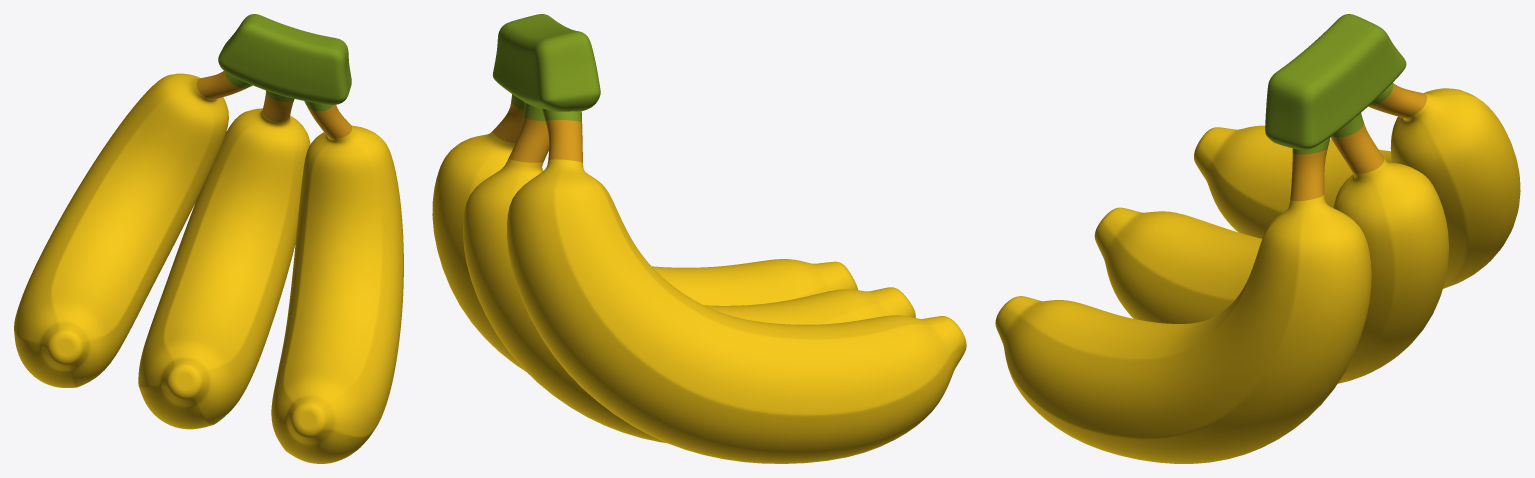
Rendered from Banana.fbx.
3 views of the same model, side by side, from view 1: azimuth 30°, elevation 25°; view 2: azimuth 150°, elevation 25°; view 3: azimuth 270°, elevation 25° (orthographic). The views are drawn at different scales.
Parts seen in each view (by area): view 1: Cylinder_012, Cylinder_011, Cylinder_010, Cube_028; view 2: Cylinder_011, Cylinder_010, Cylinder_012, Cube_028; view 3: Cylinder_012, Cylinder_010, Cylinder_011, Cube_028.
Boxes of the visible parts, bbox=[...] form: Cylinder_012: bbox=[271, 101, 403, 463]; Cylinder_011: bbox=[14, 71, 252, 387]; Cylinder_010: bbox=[138, 90, 310, 429]; Cube_028: bbox=[218, 14, 351, 104]; Cylinder_011: bbox=[507, 108, 966, 463]; Cylinder_010: bbox=[463, 102, 915, 442]; Cylinder_012: bbox=[432, 94, 857, 371]; Cube_028: bbox=[492, 14, 600, 111]; Cylinder_012: bbox=[995, 137, 1371, 463]; Cylinder_010: bbox=[1094, 113, 1448, 383]; Cylinder_011: bbox=[1194, 83, 1520, 288]; Cube_028: bbox=[1265, 14, 1406, 149].
Size of the model in its own units: 135 by 119 by 129.
